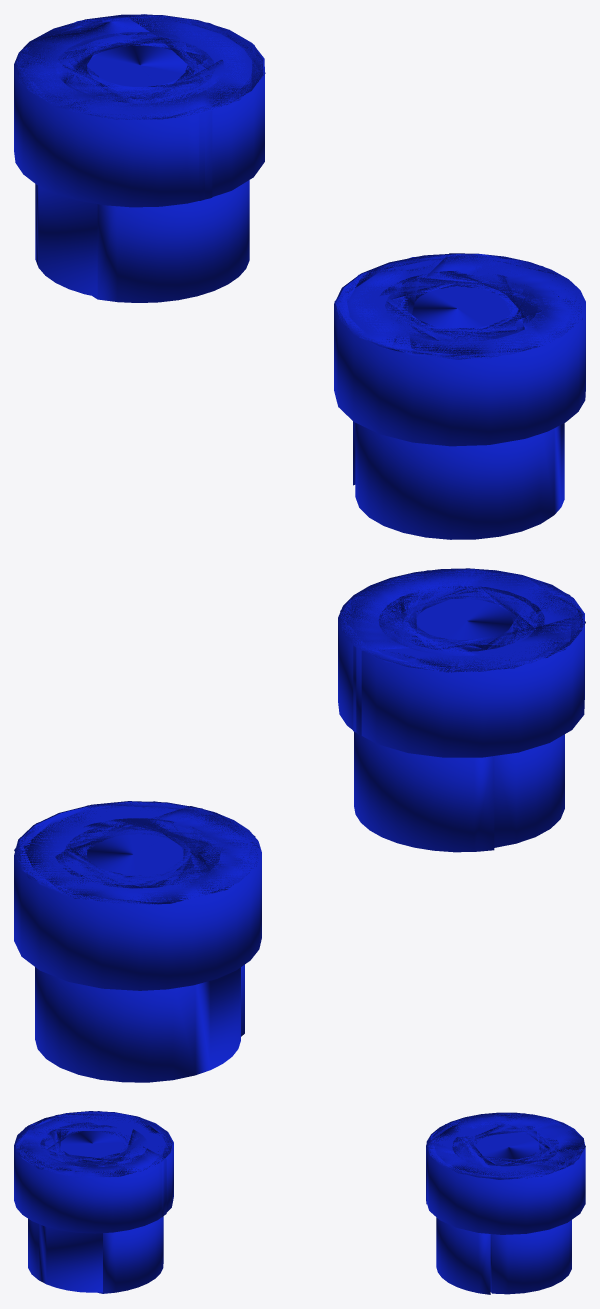
The model's file is tuyeau_element_000057.obj.
3 views of the same model, one above another, from view 1: azimuth 30°, elevation 25°; view 2: azimuth 150°, elevation 25°; view 3: azimuth 270°, elevation 25° (orthographic). The views are drawn at different scales.
Parts seen in each view (by area): view 1: tuyeau1_Cube.014, tuyeau2_Cube.017; view 2: tuyeau2_Cube.017, tuyeau1_Cube.014; view 3: tuyeau1_Cube.014, tuyeau2_Cube.017.
Boxes of the visible parts, x1,y1,x2,y2 form: tuyeau1_Cube.014: (14, 14, 265, 302); tuyeau2_Cube.017: (334, 253, 585, 539); tuyeau2_Cube.017: (338, 568, 585, 852); tuyeau1_Cube.014: (14, 801, 261, 1082); tuyeau1_Cube.014: (426, 1112, 585, 1294); tuyeau2_Cube.017: (14, 1111, 173, 1293).
Bounding box in the file's own units: 3602 × 2917 × 12609.
